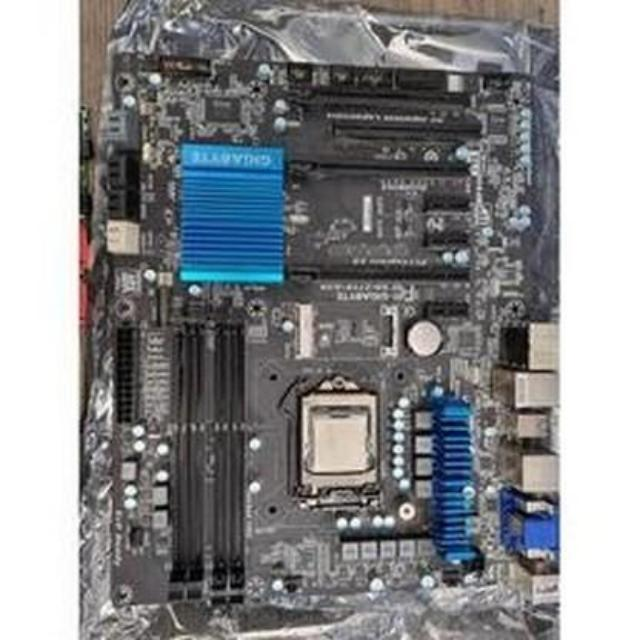Mainboard: (86, 42, 562, 640)
